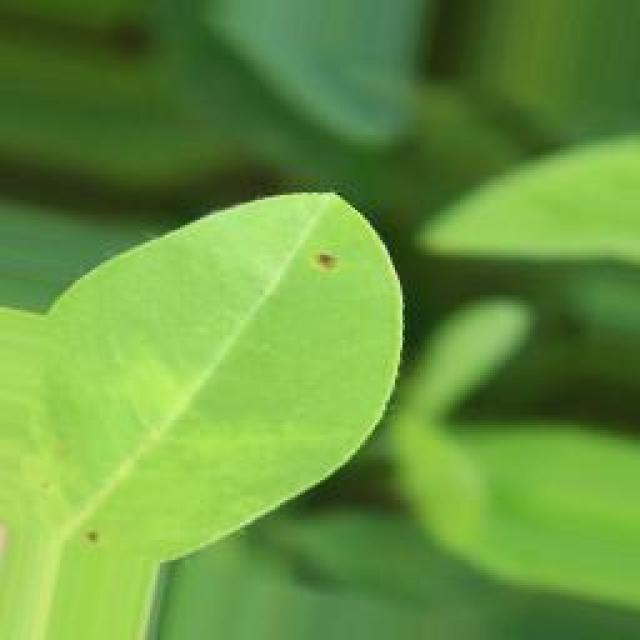Sigatoka: (298, 230, 365, 306), (77, 520, 144, 570)
